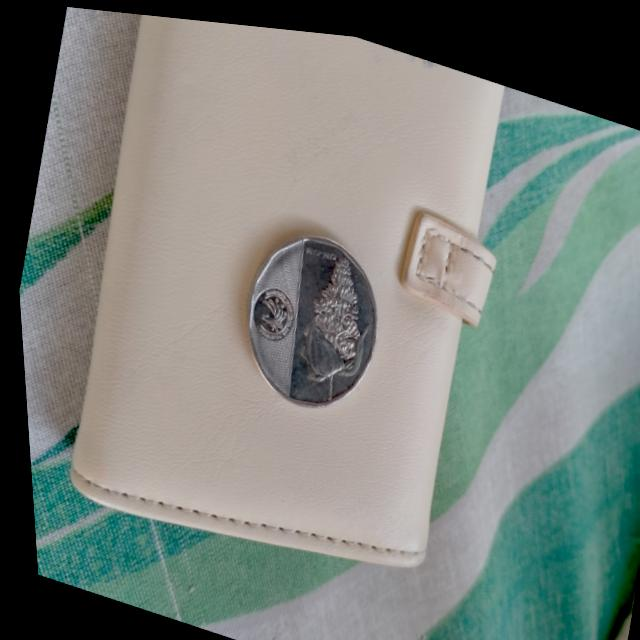10_New_Back: (275, 237, 387, 412)
